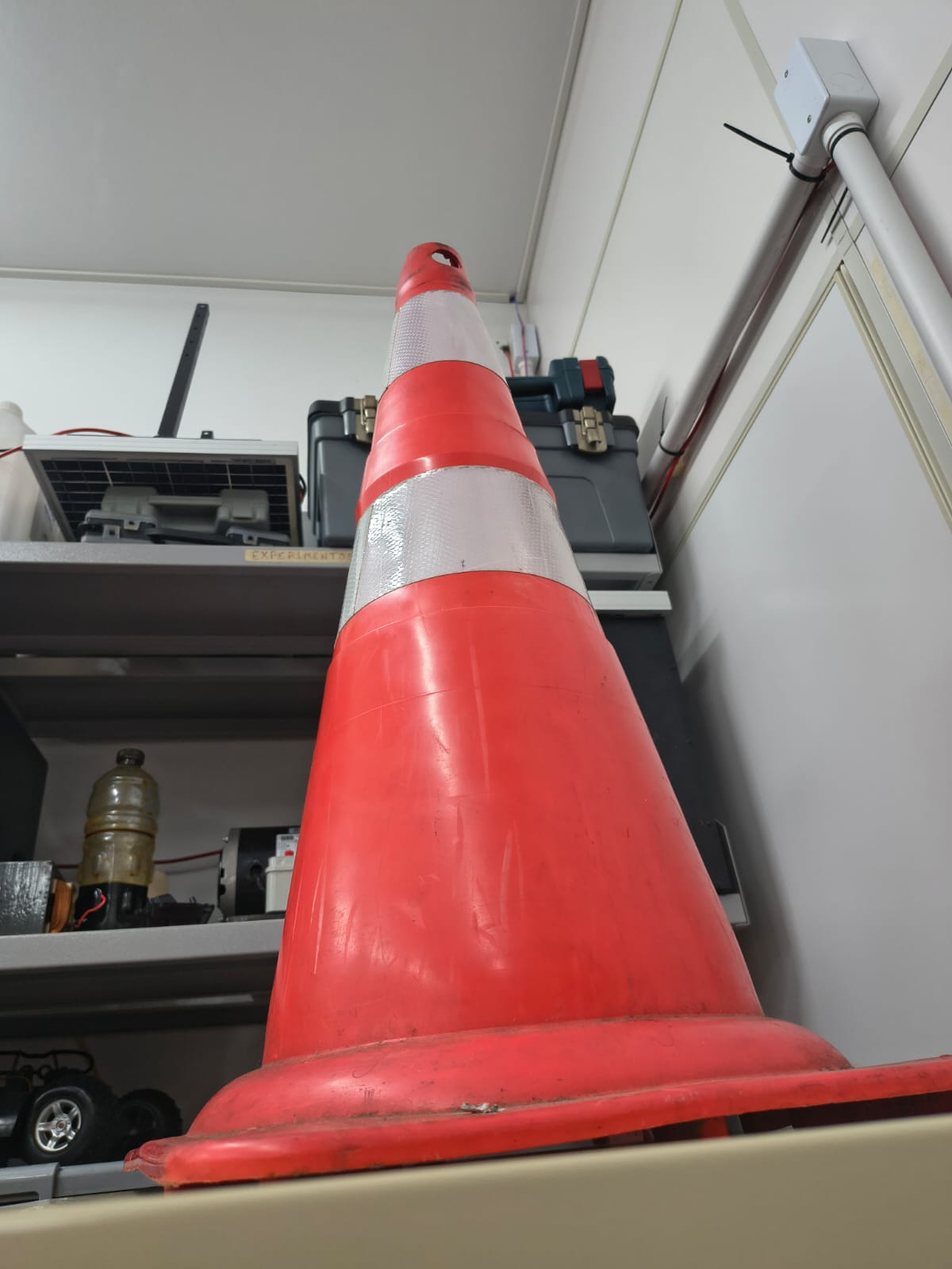cone: (161, 238, 952, 1147)
